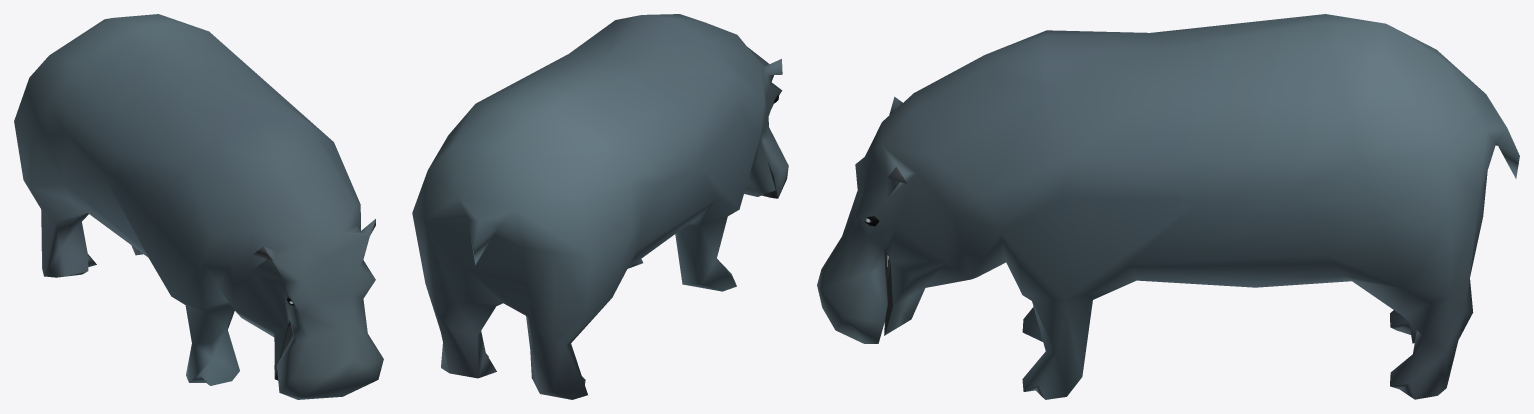
3 renders of one model, left to right at view 1: azimuth 30°, elevation 25°; view 2: azimuth 150°, elevation 25°; view 3: azimuth 270°, elevation 25°, orthographic. The views are drawn at different scales.
Parts seen in each view (by area): view 1: Hippo; view 2: Hippo; view 3: Hippo.
Boxes of the visible parts, x1=… form: Hippo: x1=14, y1=14, x2=383, y2=399; Hippo: x1=412, y1=14, x2=788, y2=399; Hippo: x1=817, y1=14, x2=1519, y2=399.
Size of what is drawn, in the model's own units: 1 by 1.27 by 2.44.
Materials: 1 (1 with a texture image).
